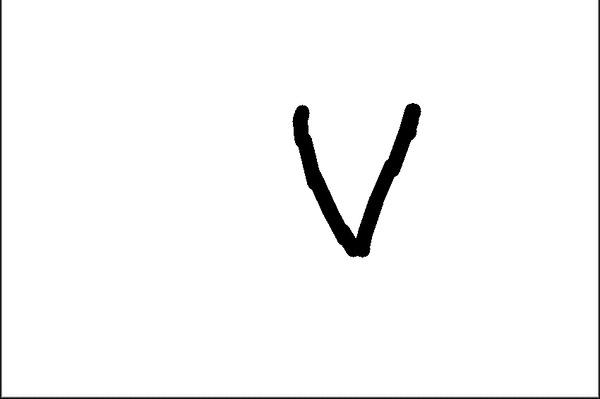V: (266, 79, 448, 264)
